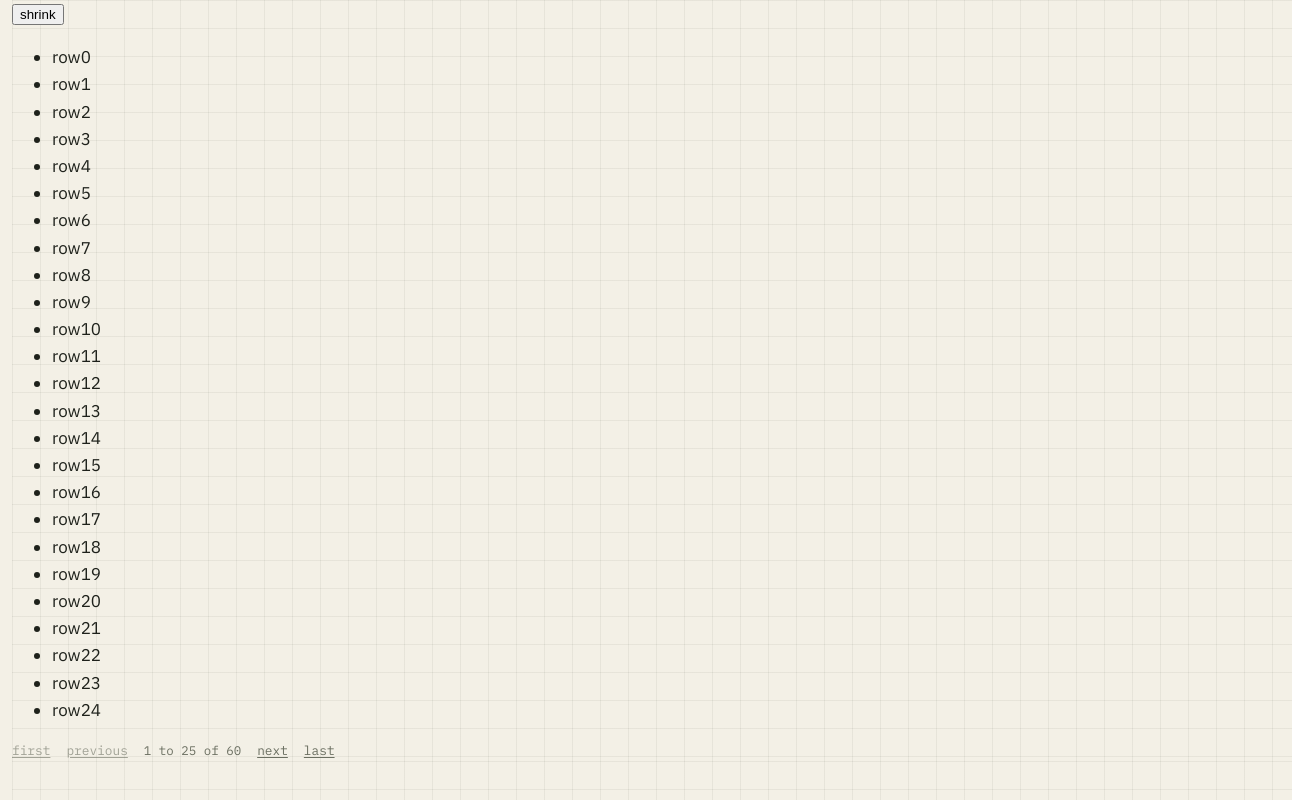
Test case: Pager › disables the ends rather than hiding them, so the row does not reflow
expect the button "first" is disabled: met, box [12, 741, 50, 761]
Click the button "last" at (319,751), box [304, 741, 335, 761]
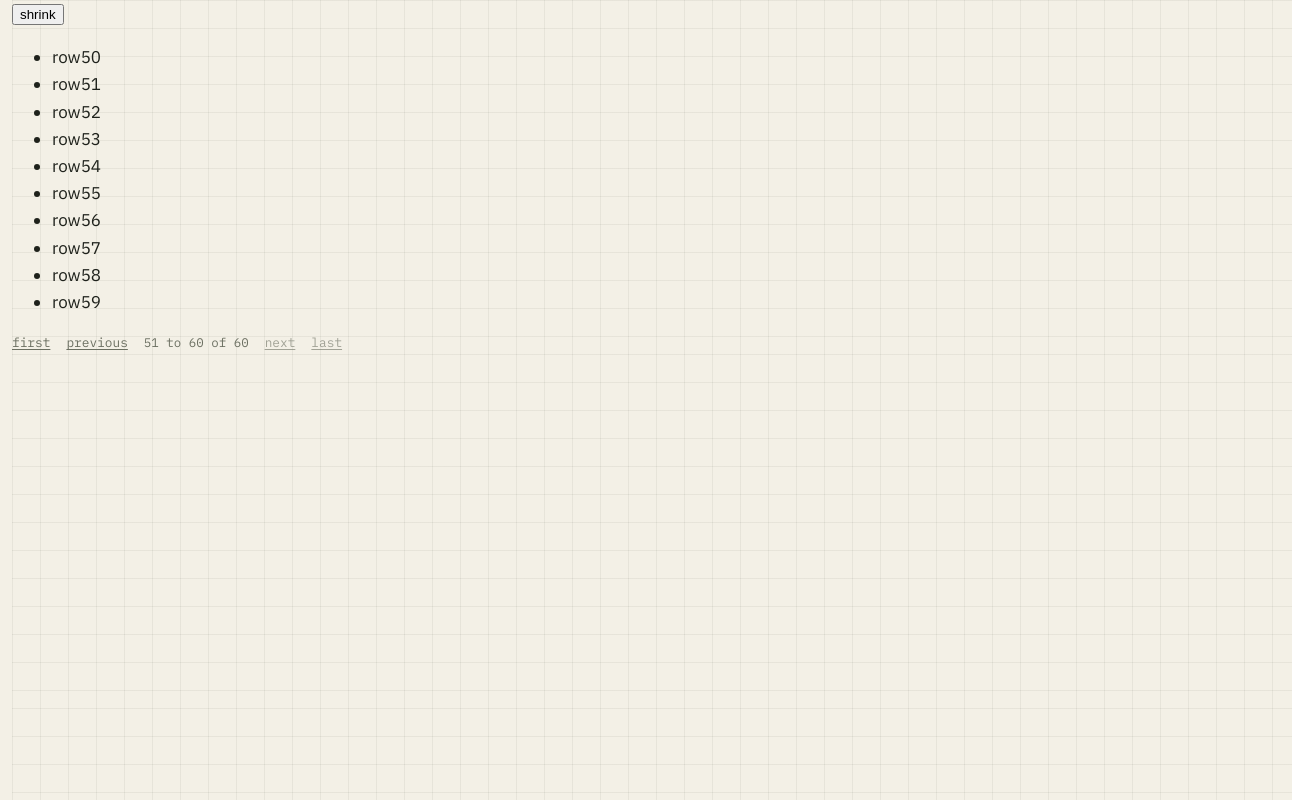
expect the button "next" is disabled: met, box [265, 333, 295, 354]
expect the button "previous" is enabled: met, box [66, 333, 128, 354]
